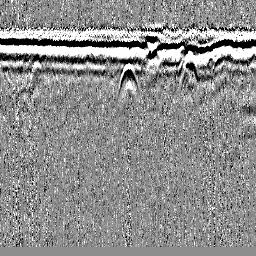cavity: (116, 61, 140, 100)
